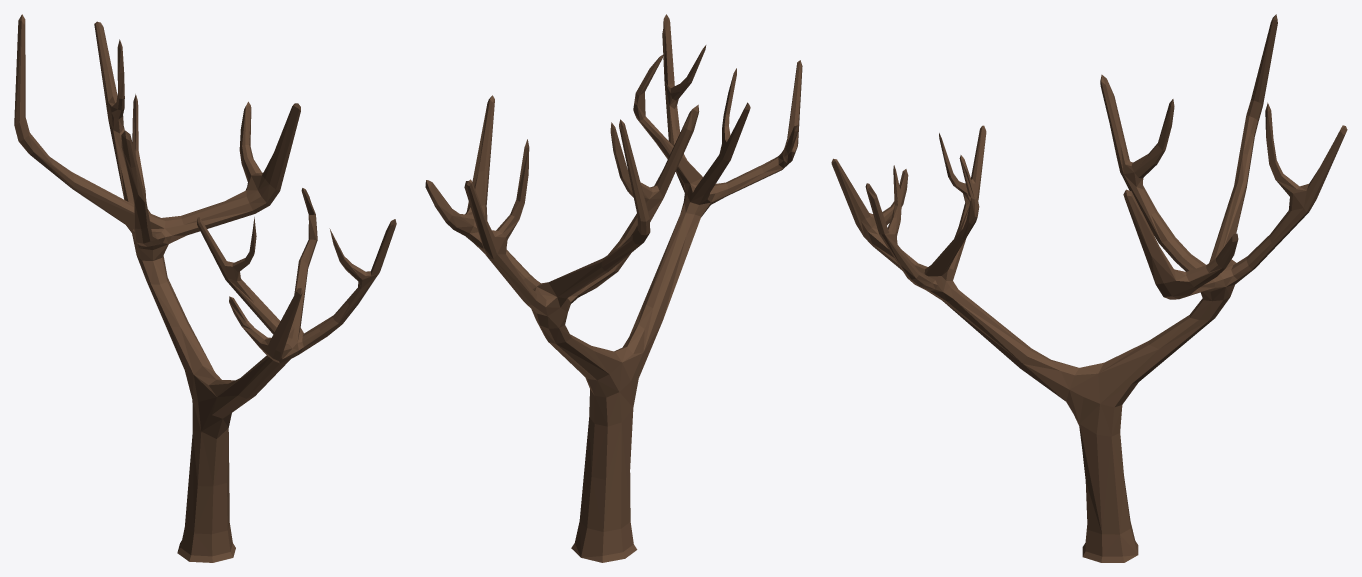
Rendered from CommonTree_Dead_1.glb.
3 renders of one model, left to right at view 1: azimuth 30°, elevation 25°; view 2: azimuth 150°, elevation 25°; view 3: azimuth 270°, elevation 25°, orthographic. The views are drawn at different scales.
Visible parts, largest first — view 1: CommonTree_Dead_1; view 2: CommonTree_Dead_1; view 3: CommonTree_Dead_1.
Boxes of the visible parts, left/top/right/bottom form: CommonTree_Dead_1: left=14, top=14, right=396, bottom=562; CommonTree_Dead_1: left=425, top=14, right=802, bottom=562; CommonTree_Dead_1: left=831, top=14, right=1347, bottom=562.
Bounding box in the file's own units: 1.04 × 2.22 × 2.12.
